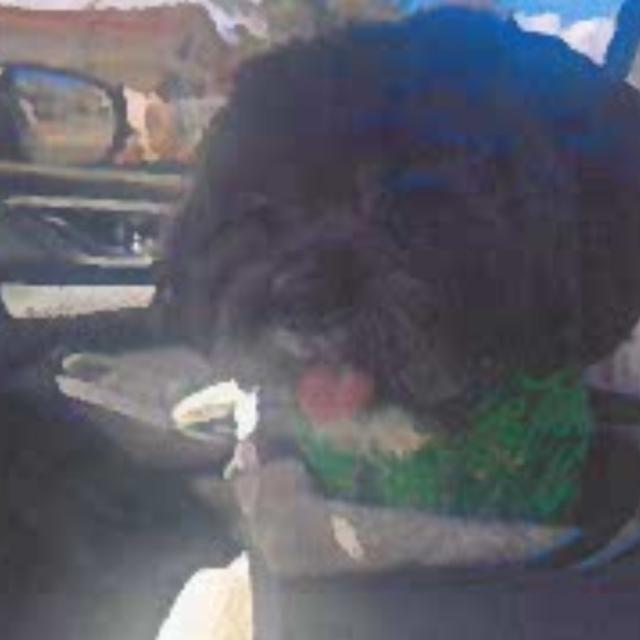shih_tzu_dog: (124, 7, 640, 474)
